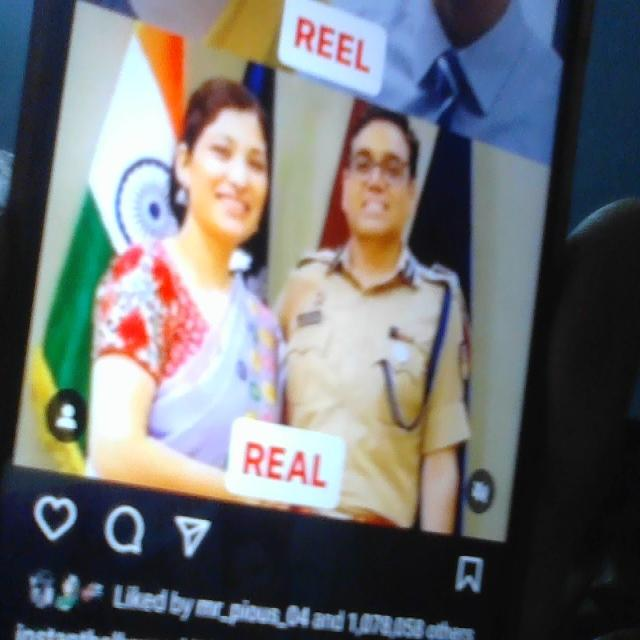fake: (173, 36, 287, 251)
